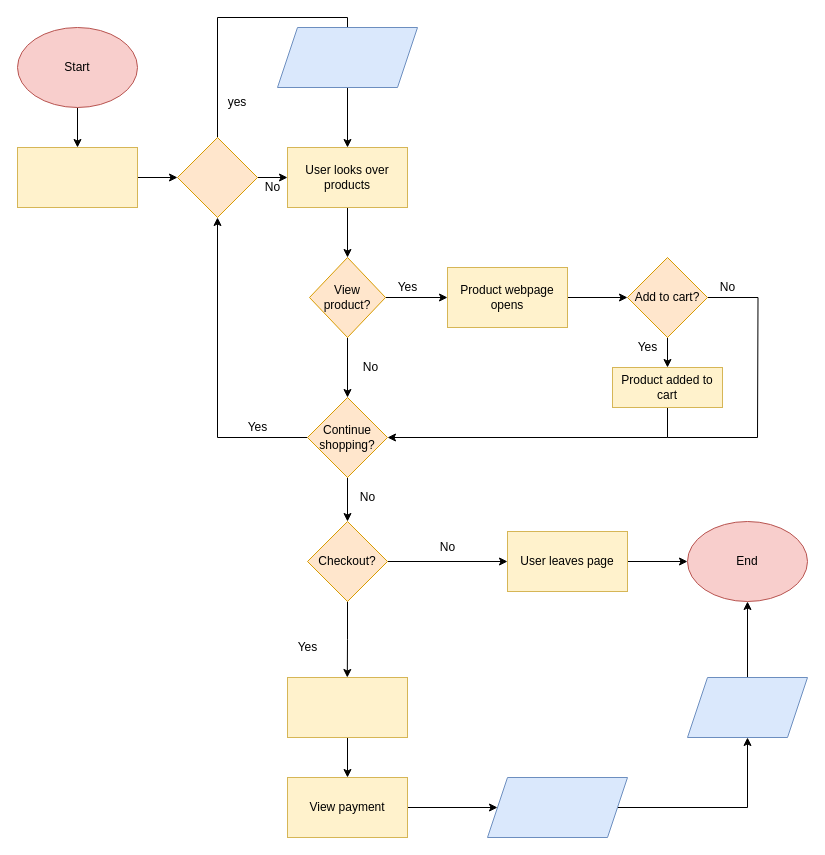
Image size: 825x855. Some labels were removed from this diagram. The box of each missing label's shape, as (x1, y1, x2, y2) in pixels:
Input payment information: (486, 776, 628, 838)
Input to website from search: (276, 26, 418, 88)
Output order confirmation and email: (686, 676, 808, 738)
Search for product?: (176, 136, 258, 218)
User enters the website: (16, 146, 138, 208)
View Cart: (286, 676, 408, 738)
